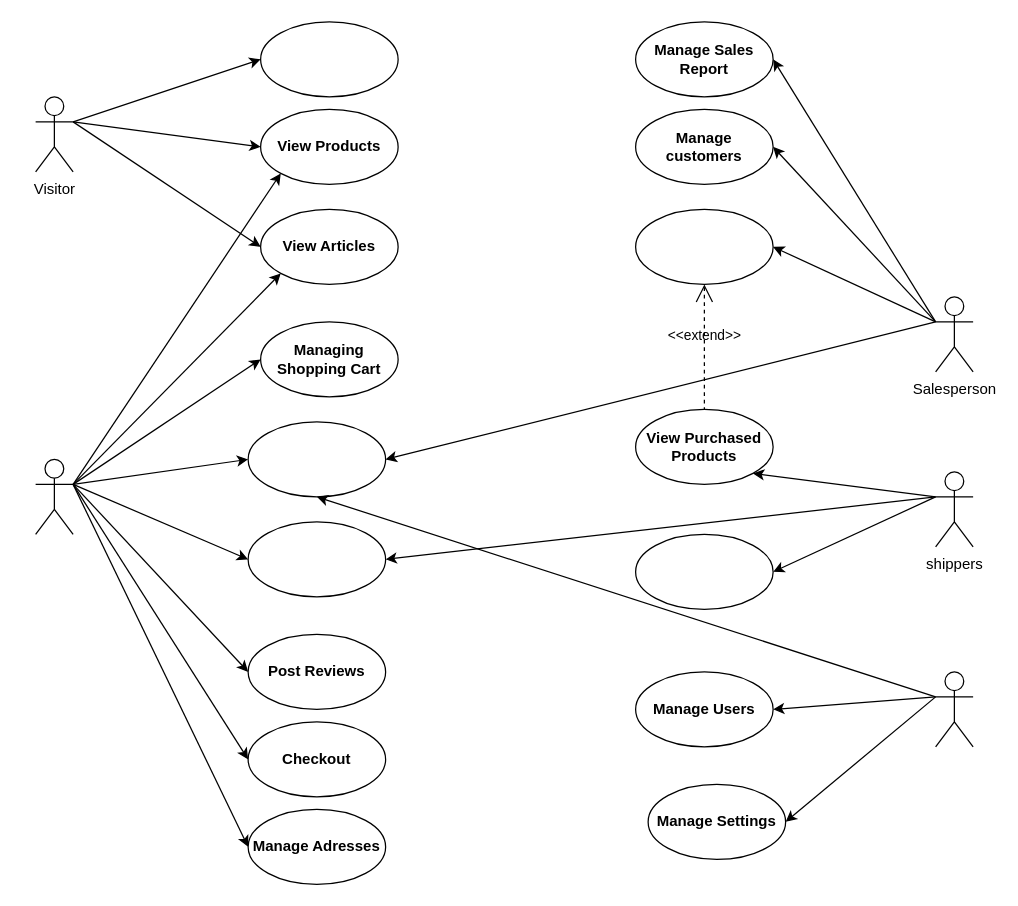
The diagram is 1018 pixels wide and 906 high, and some of its shapes have lost their labels. Here are the shapes that lost their labels. From the top down, the centre of each, then its label:
point 328,59: Sign Up
point 703,246: Manage Products
point 316,459: Login/ Log out
point 53,496: Customer
point 316,559: View Orders
point 703,571: Update Order Status
point 953,709: Admin
